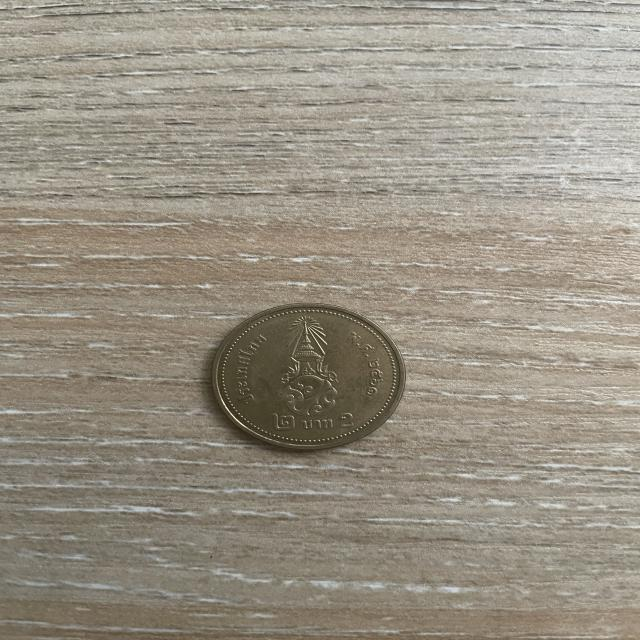2 Bath: (196, 300, 420, 460)
